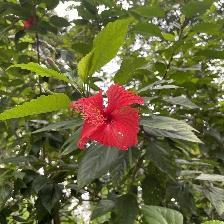hibiscus: (67, 83, 145, 155)
